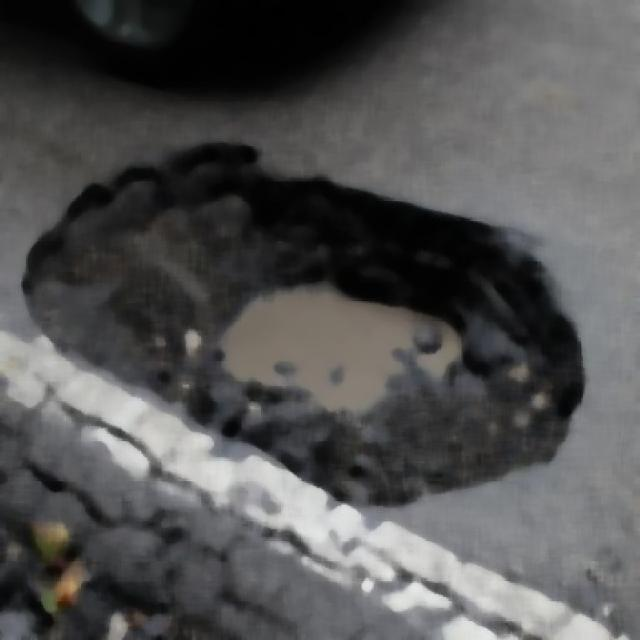Pothole: (156, 159, 484, 483)
